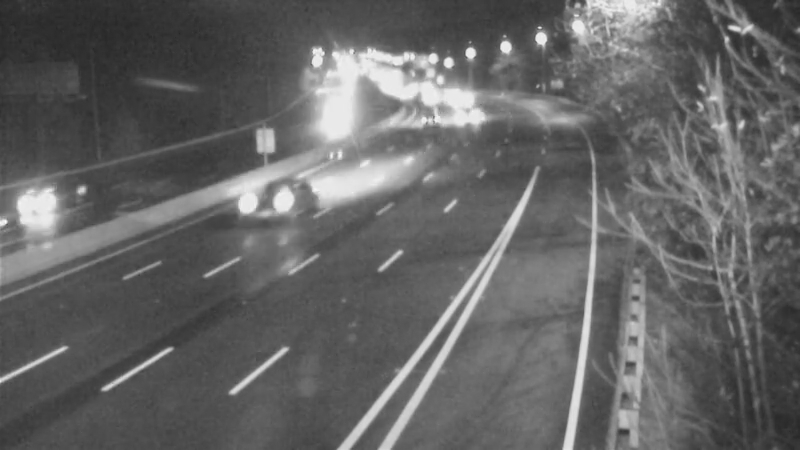vehicle: (223, 159, 303, 239), (1, 159, 80, 239), (398, 62, 448, 112), (380, 70, 430, 120), (401, 74, 451, 124), (430, 73, 480, 123), (449, 90, 499, 140), (401, 94, 451, 144), (309, 93, 359, 143)
